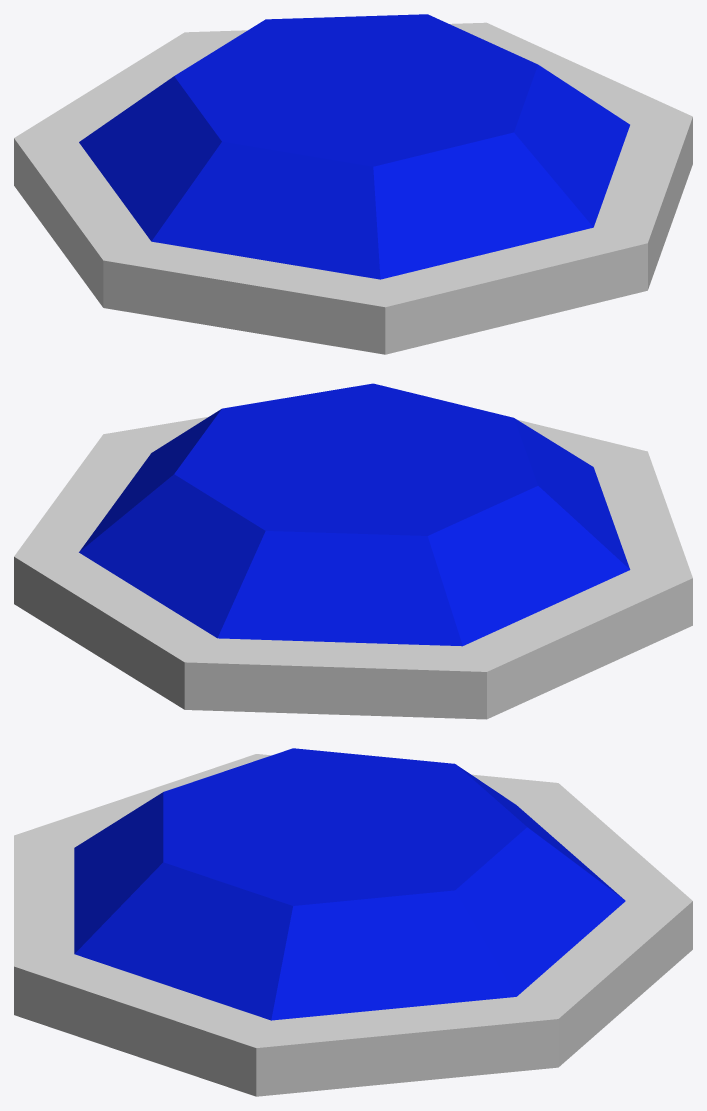
The model's file is button.fbx.
The picture shows the model from 3 angles, top to bottom: view 1: azimuth 30°, elevation 25°; view 2: azimuth 150°, elevation 25°; view 3: azimuth 270°, elevation 25°; orthographic projection. The views are drawn at different scales.
Visible parts, largest first — view 1: Circle; view 2: Circle; view 3: Circle.
Part boxes in pixels (x1,y1,x2,y2): Circle: (14,14,692,354); Circle: (14,383,692,719); Circle: (14,748,692,1096).
Size of the model in its own units: 195 by 37.83 by 190.
